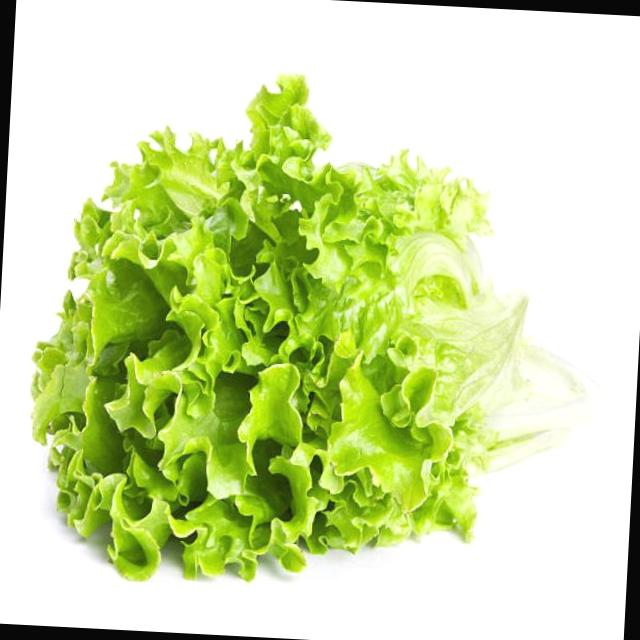Lettuce-Ready-to-Harvest: (34, 76, 598, 579)
